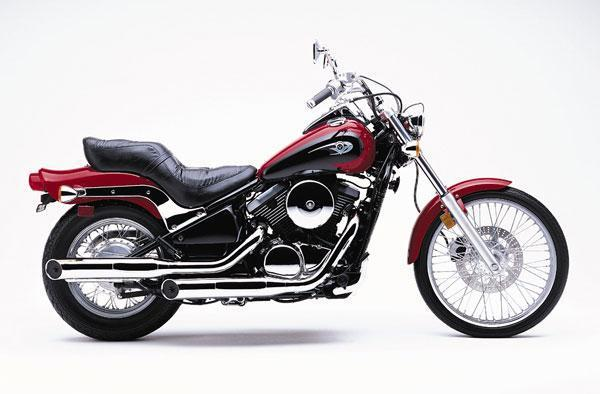motorcycle: (20, 33, 570, 348)
